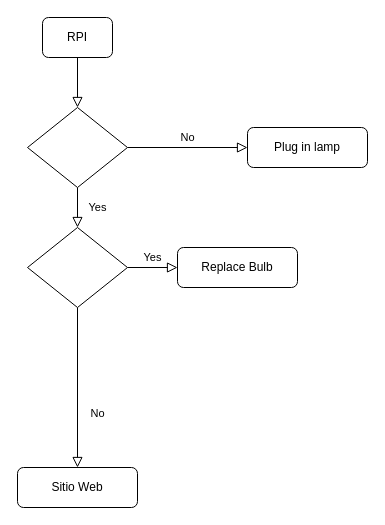
The diagram is 385 pixels wide and 525 high, and some of its shapes have lost their labels. The centre of each missing label's shape, as x and y in pixels:
"Bulb burned out?" goes at pixel 77 267.
"Server" goes at pixel 77 147.
